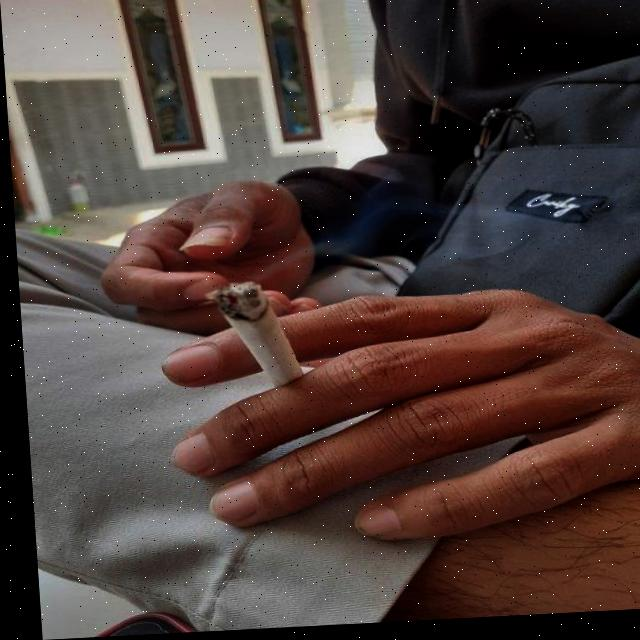cigarette: (205, 279, 299, 392)
